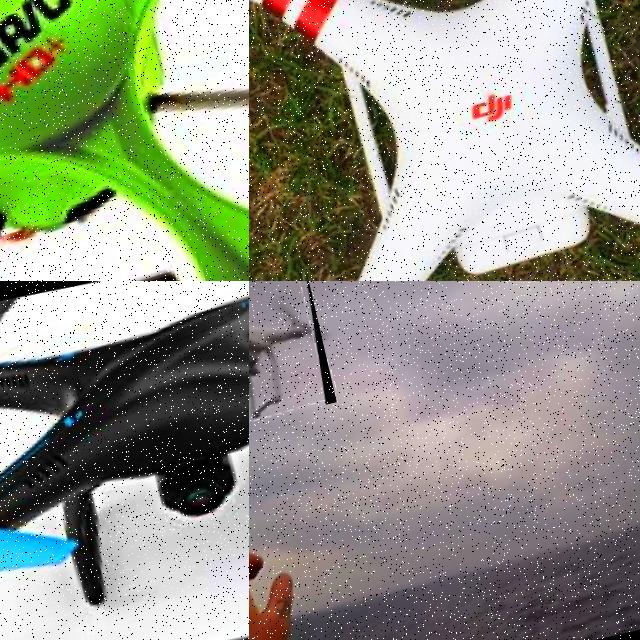drone: (249, 0, 640, 281), (0, 281, 249, 640), (0, 0, 249, 281), (249, 281, 336, 433)
